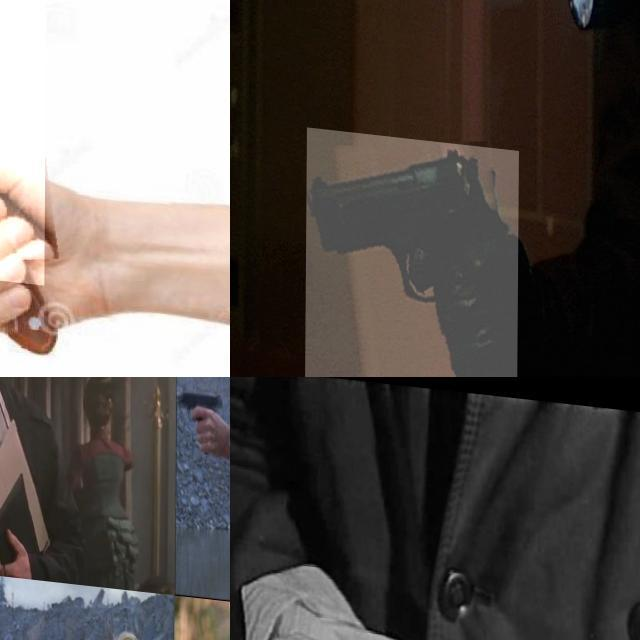-: (0, 0, 146, 277)
gun-knife-thesis - v11 Yolov5 augmented: (305, 124, 519, 377), (174, 377, 230, 456), (0, 416, 24, 558)
